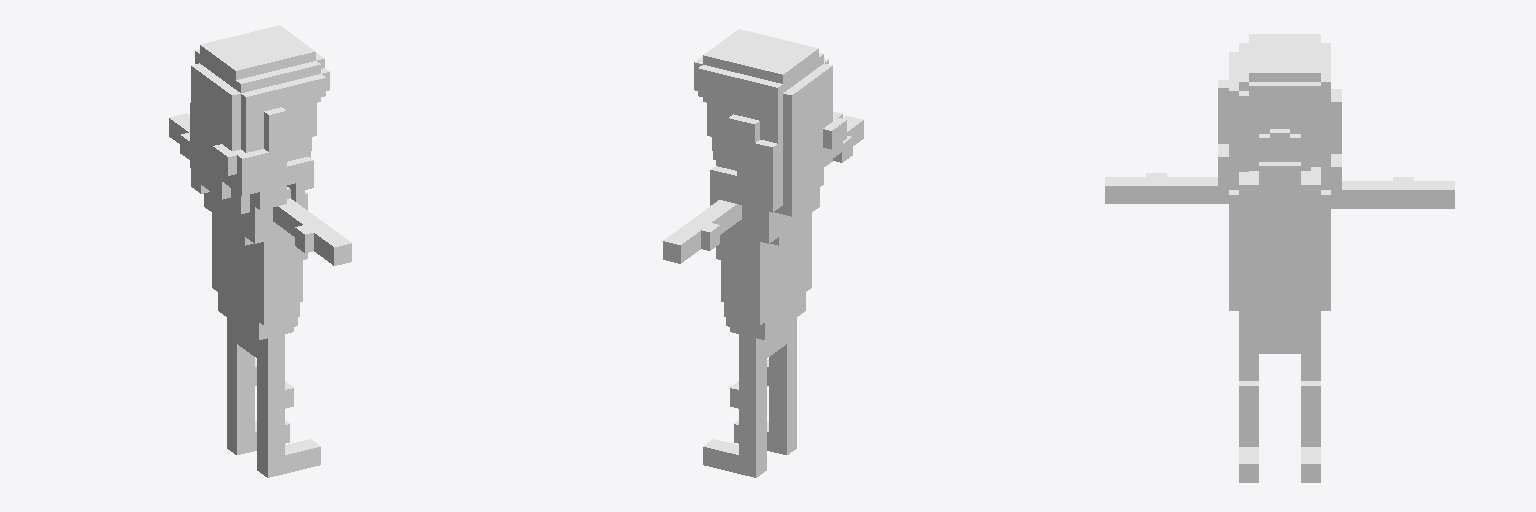
File: SBlack_HBlonde.obj
3 renders of one model, left to right at view 1: azimuth 30°, elevation 25°; view 2: azimuth 150°, elevation 25°; view 3: azimuth 270°, elevation 25°, orthographic.
Visible parts, largest first — view 1: object 1; view 2: object 1; view 3: object 1.
Boxes of the visible parts, <box> form: object 1: <box>169,25,351,477</box>; object 1: <box>663,29,863,477</box>; object 1: <box>1105,34,1454,482</box>.
Bounding box in the file's own units: 1.2 × 4.4 × 3.4.